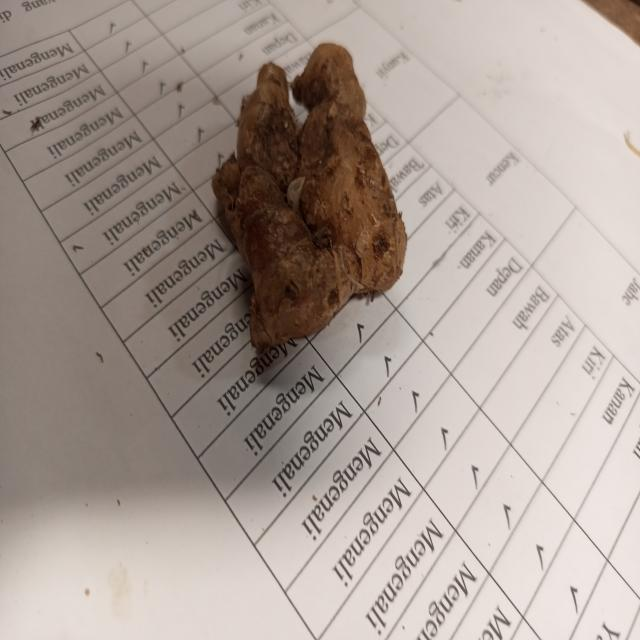ginger: (220, 41, 402, 345)
